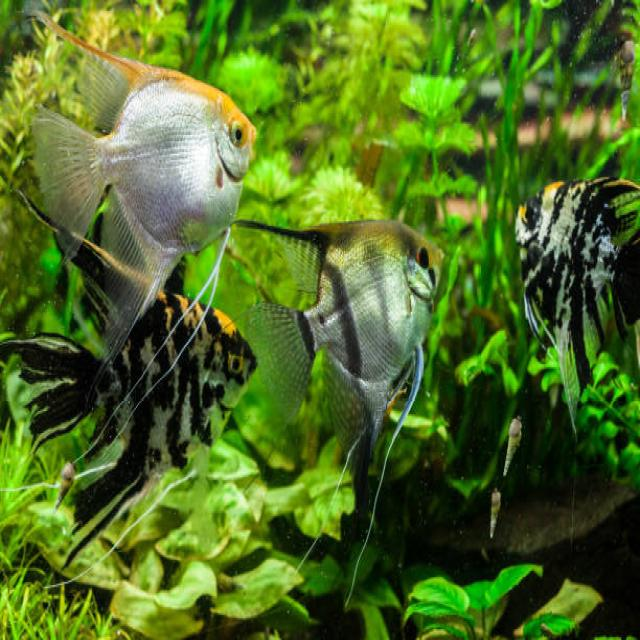AngelFish: (1, 173, 259, 556), (27, 11, 261, 377), (242, 202, 445, 462), (513, 170, 640, 420)
